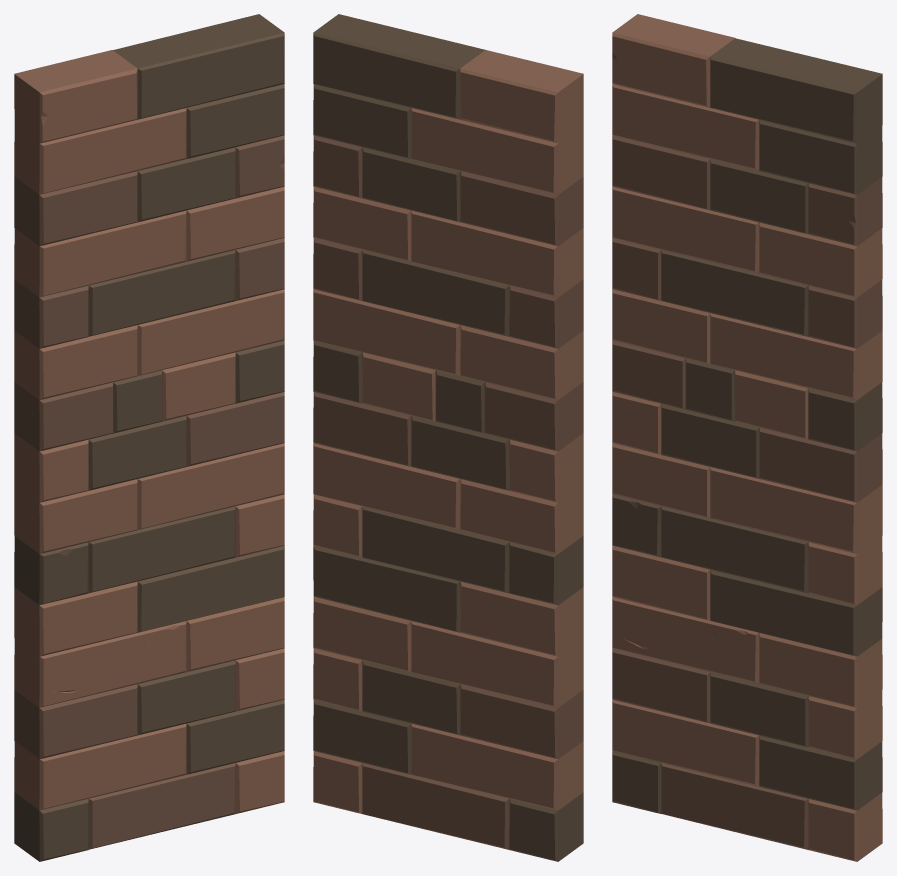
File: victorian_wall_brick_1_short.fbx
3 views of the same model, side by side, from view 1: azimuth 30°, elevation 25°; view 2: azimuth 150°, elevation 25°; view 3: azimuth 330°, elevation 25° (orthographic).
Visible parts, largest first — view 1: Cube.218; view 2: Cube.218; view 3: Cube.218.
Boxes of the visible parts, <box> form: Cube.218: <box>14,14,284,861</box>; Cube.218: <box>313,14,583,861</box>; Cube.218: <box>612,14,882,861</box>.
Size of the model in its own units: 100 by 300 by 20.
